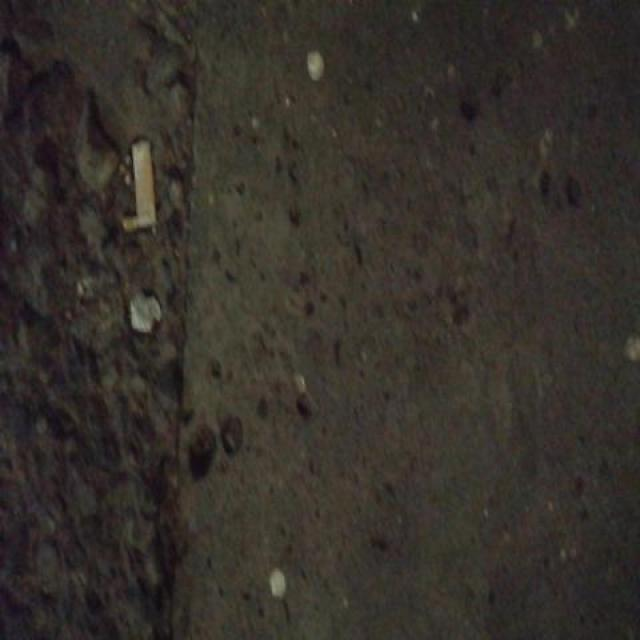non-organic waste: (127, 134, 161, 234)
